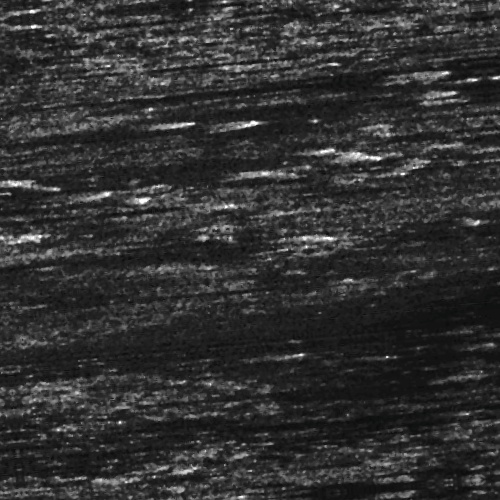object: (261, 232, 386, 249), (76, 179, 181, 194), (200, 117, 305, 126), (379, 84, 452, 93), (428, 102, 500, 111), (172, 194, 225, 203), (15, 210, 46, 221), (151, 112, 214, 117), (10, 152, 41, 161), (427, 391, 480, 396)
shadow: (0, 232, 323, 249), (170, 78, 500, 87), (155, 84, 415, 93), (34, 117, 252, 126), (12, 179, 128, 194), (278, 102, 470, 111), (84, 194, 198, 203), (77, 112, 182, 117), (453, 430, 500, 441), (379, 391, 453, 396), (0, 210, 30, 221), (0, 152, 25, 161)
